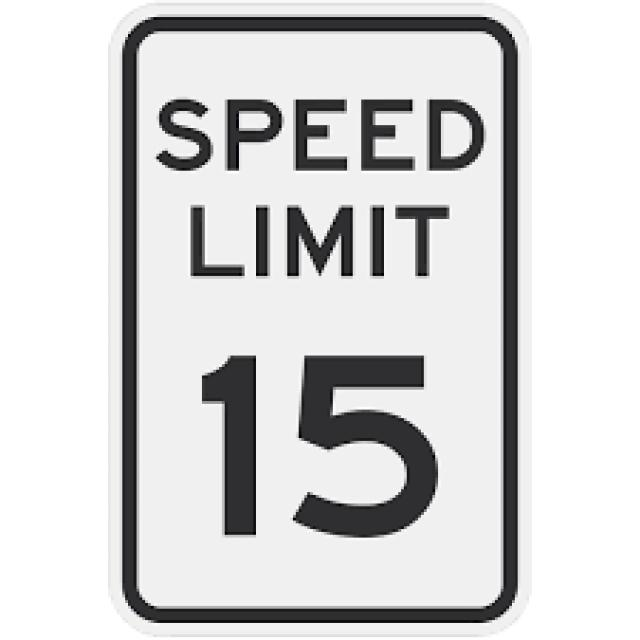speedLimit15: (112, 9, 534, 628)
